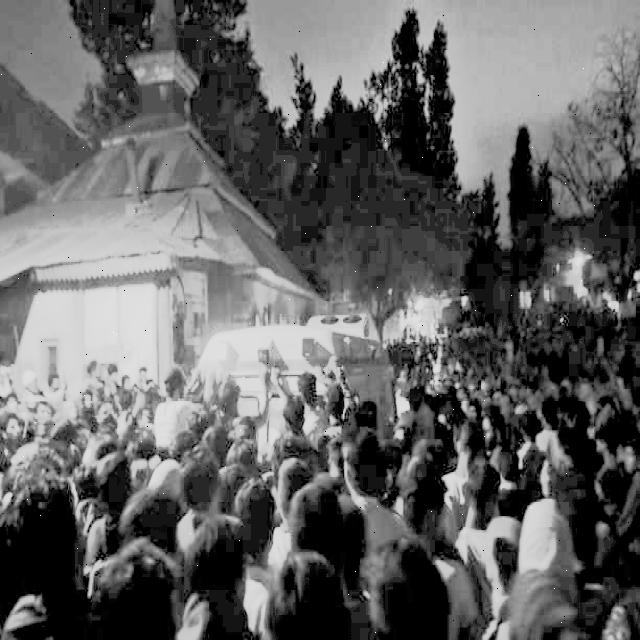Ambulance: (204, 326, 326, 376), (313, 301, 370, 339)
